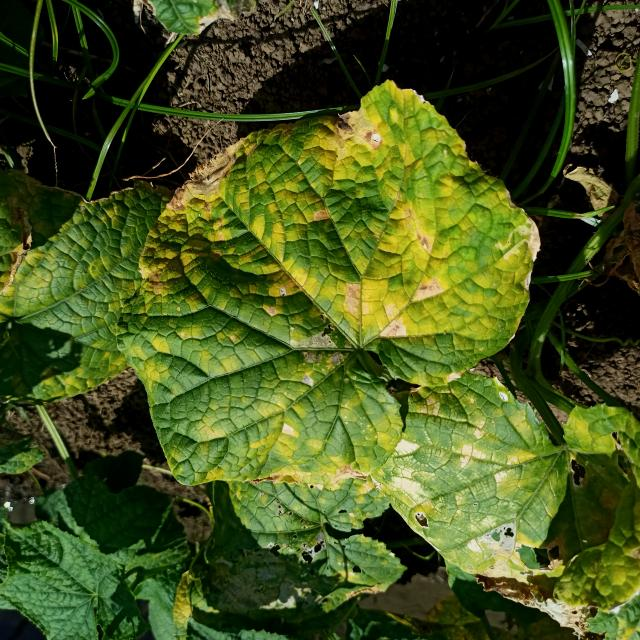disease_cucumber: (132, 83, 536, 490), (343, 378, 563, 567)
